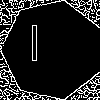I: (27, 25, 42, 70)
